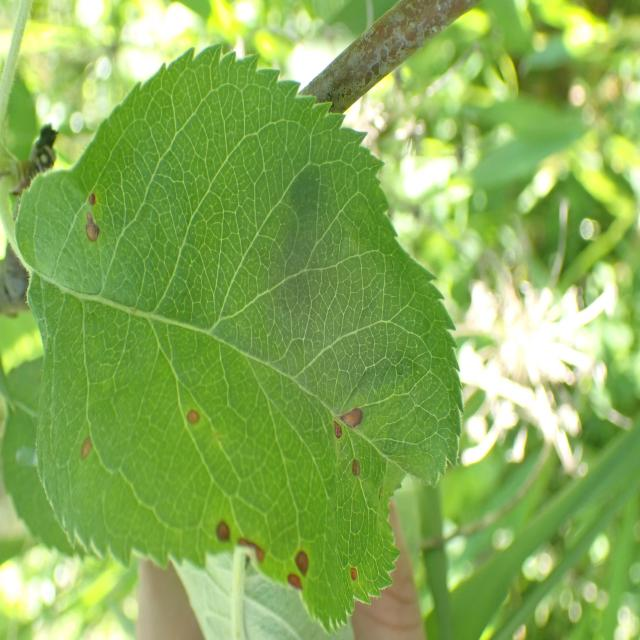Black Rot: (235, 513, 268, 587), (78, 175, 102, 263), (328, 391, 368, 443), (284, 537, 318, 597), (180, 392, 210, 446), (66, 424, 101, 464), (213, 502, 235, 562), (346, 449, 364, 502), (346, 555, 366, 601)
